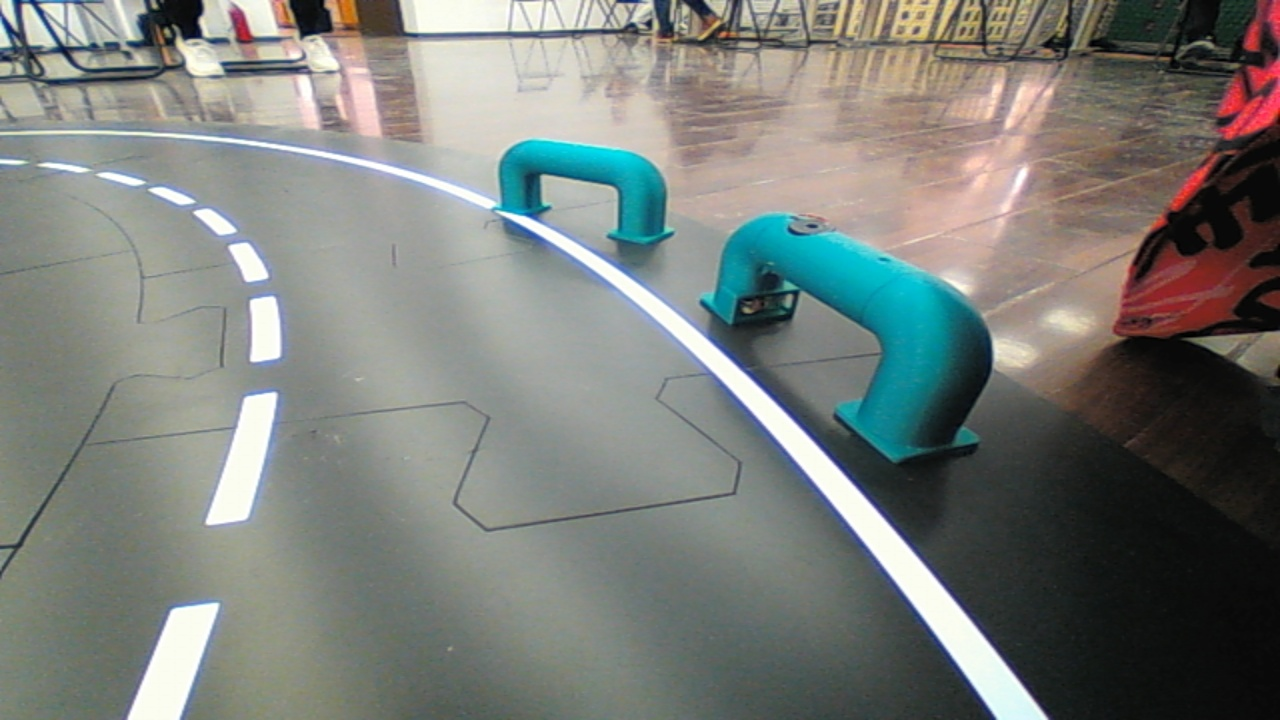No entry: (488, 122, 686, 269)
Pedestrian crossing: (701, 184, 1000, 484)
